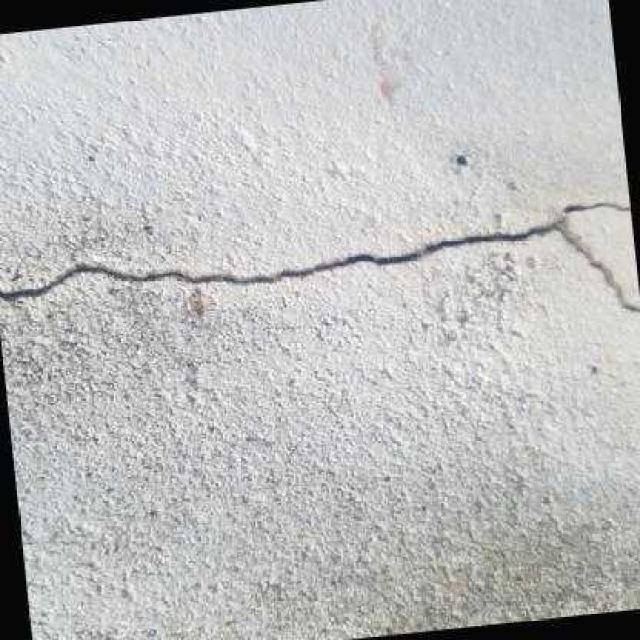D00: (0, 200, 640, 313)
